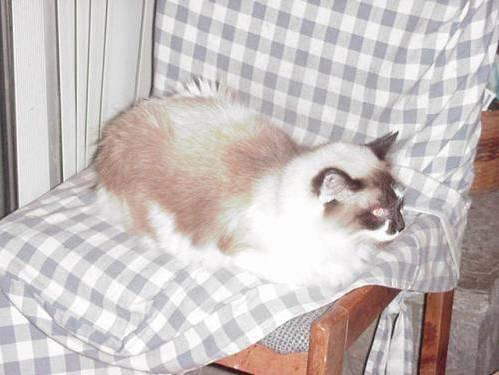cat: (138, 125, 407, 288)
